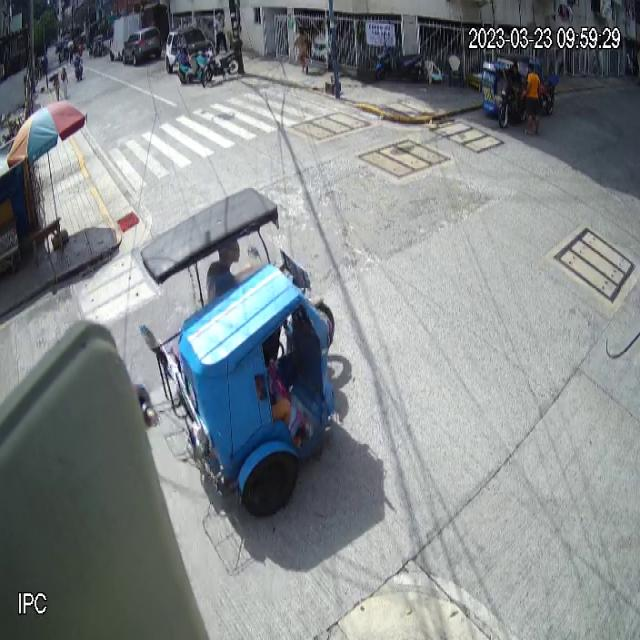Tricycle: (139, 183, 334, 519), (482, 54, 529, 129)
